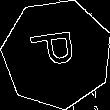P_E: (29, 32, 85, 76)
